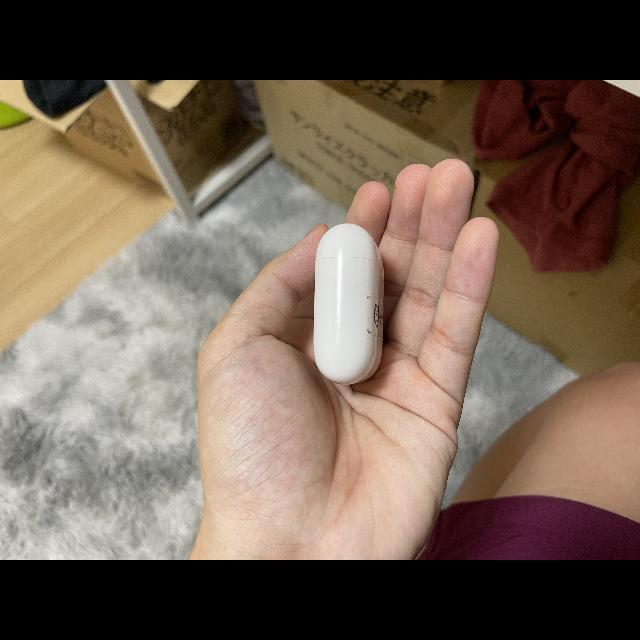airpod2: (308, 216, 399, 394)
